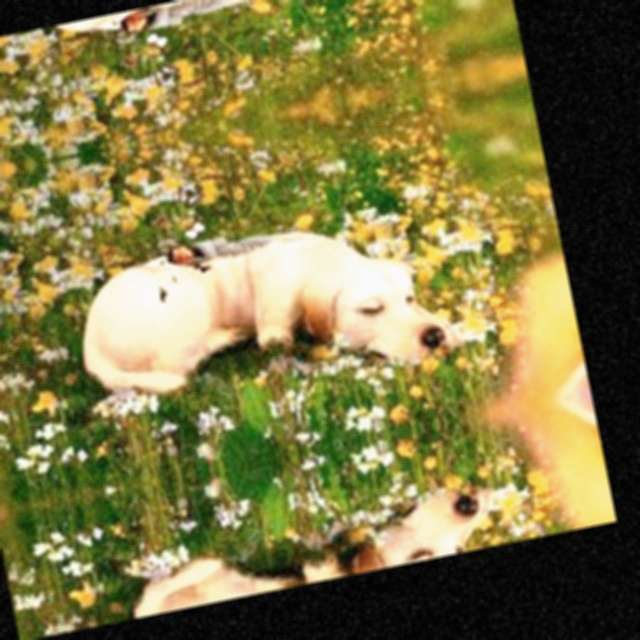dog: (36, 165, 446, 455), (95, 460, 480, 623), (0, 0, 374, 92)
